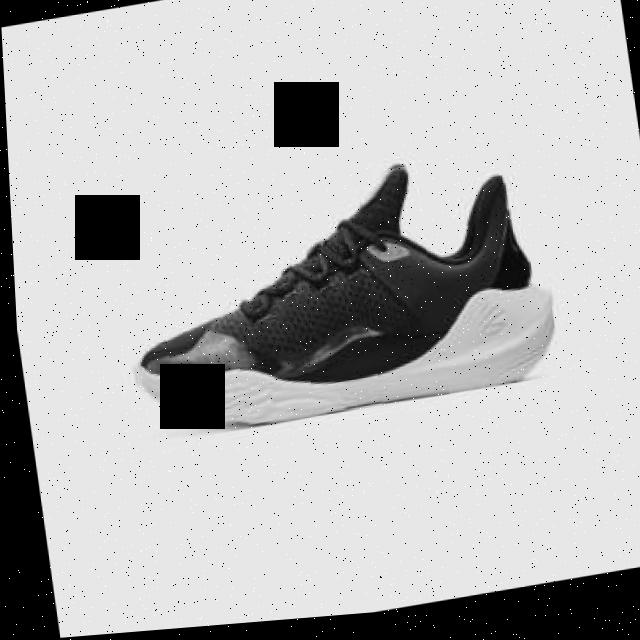shoe: (106, 148, 558, 449)
